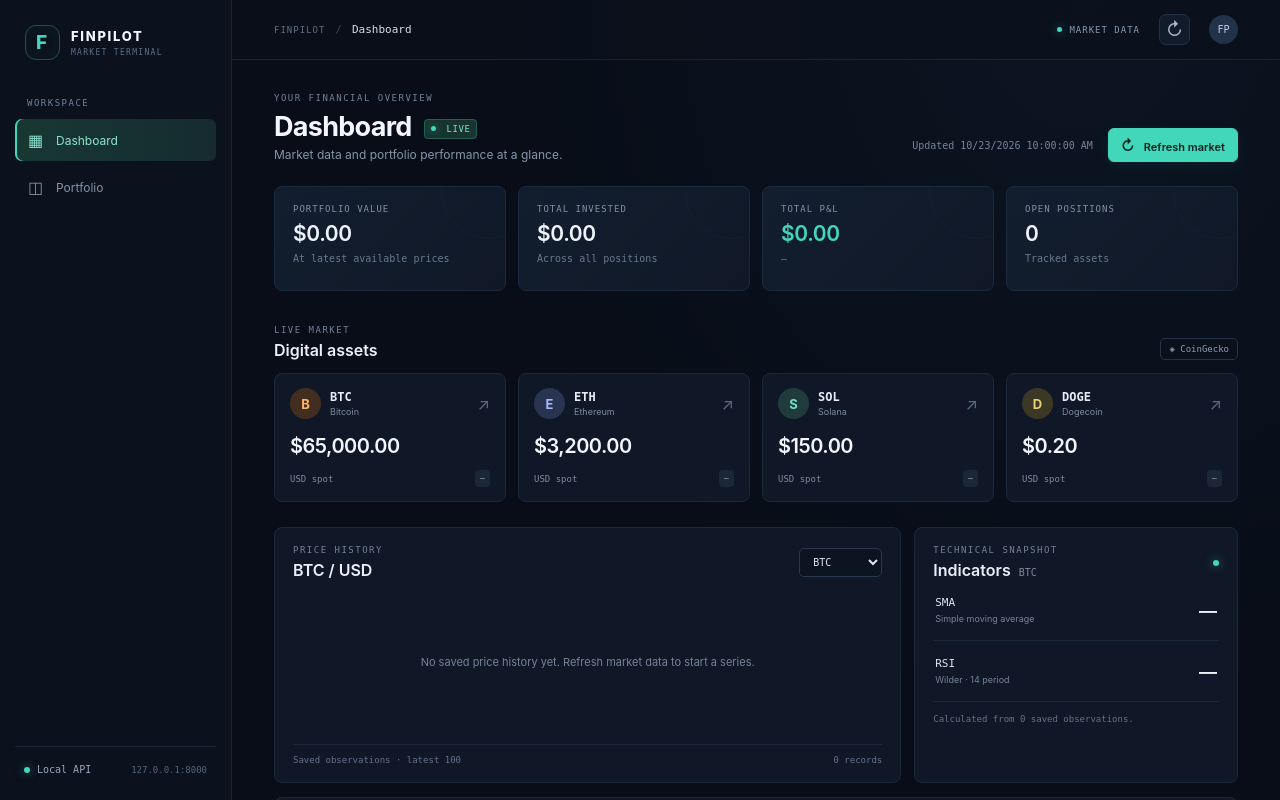
Test case: FinPilot dashboard › validates position form values before submitting
Step 1. Click the button "◫ Portfolio" → (116, 187), box [15, 166, 216, 208]
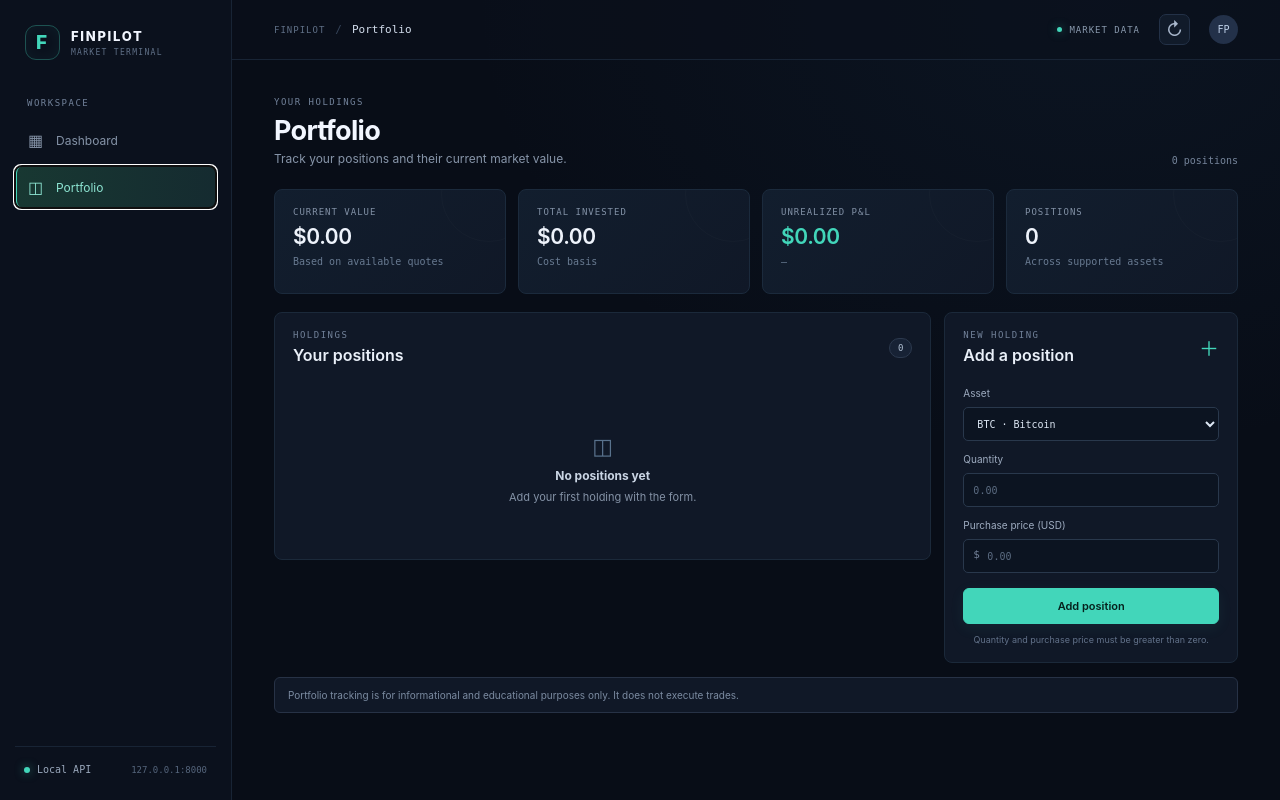
Check: the heading "Add a position" is shown, box [963, 345, 1074, 365]
Step 2. Type "-1" into the number field labelled "Quantity" → (1091, 490), box [963, 473, 1219, 507]
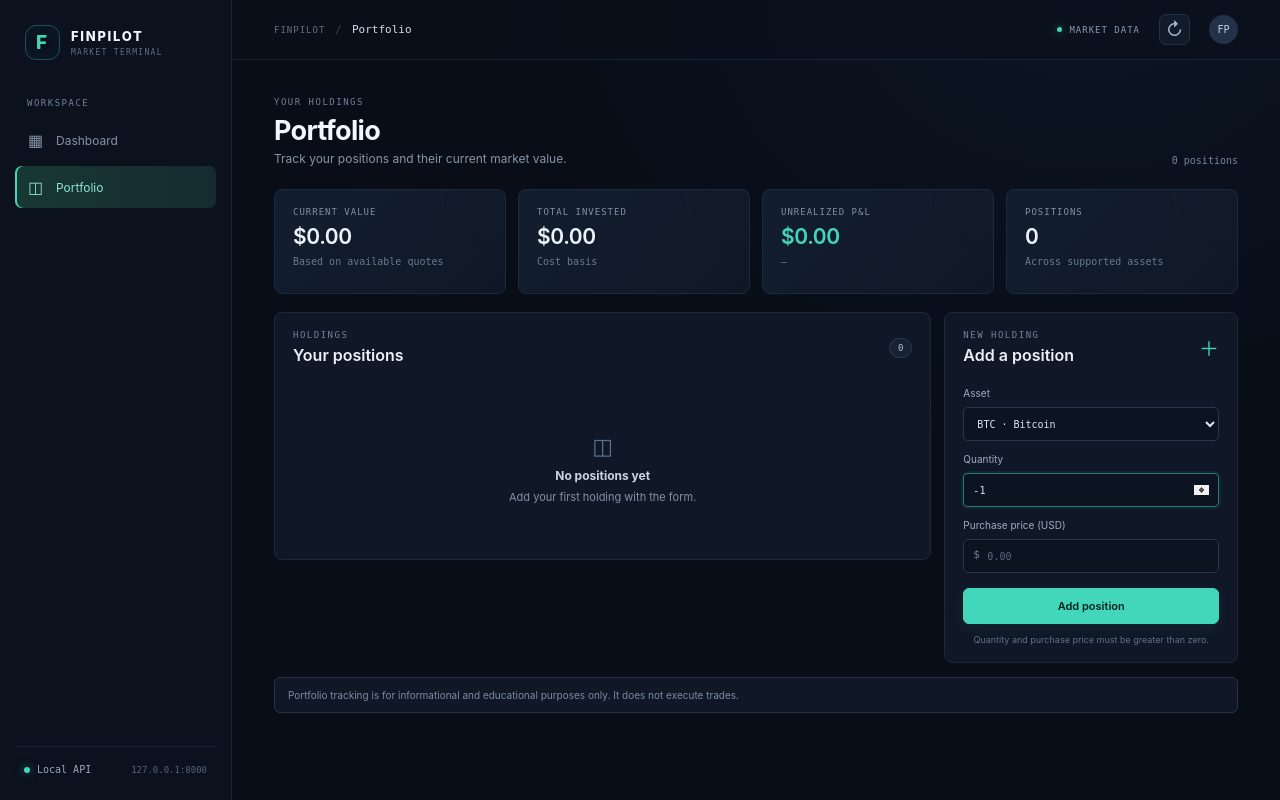
Step 3. Type "0" into the number field labelled "Purchase price (USD)" → (1091, 556), box [963, 539, 1219, 573]
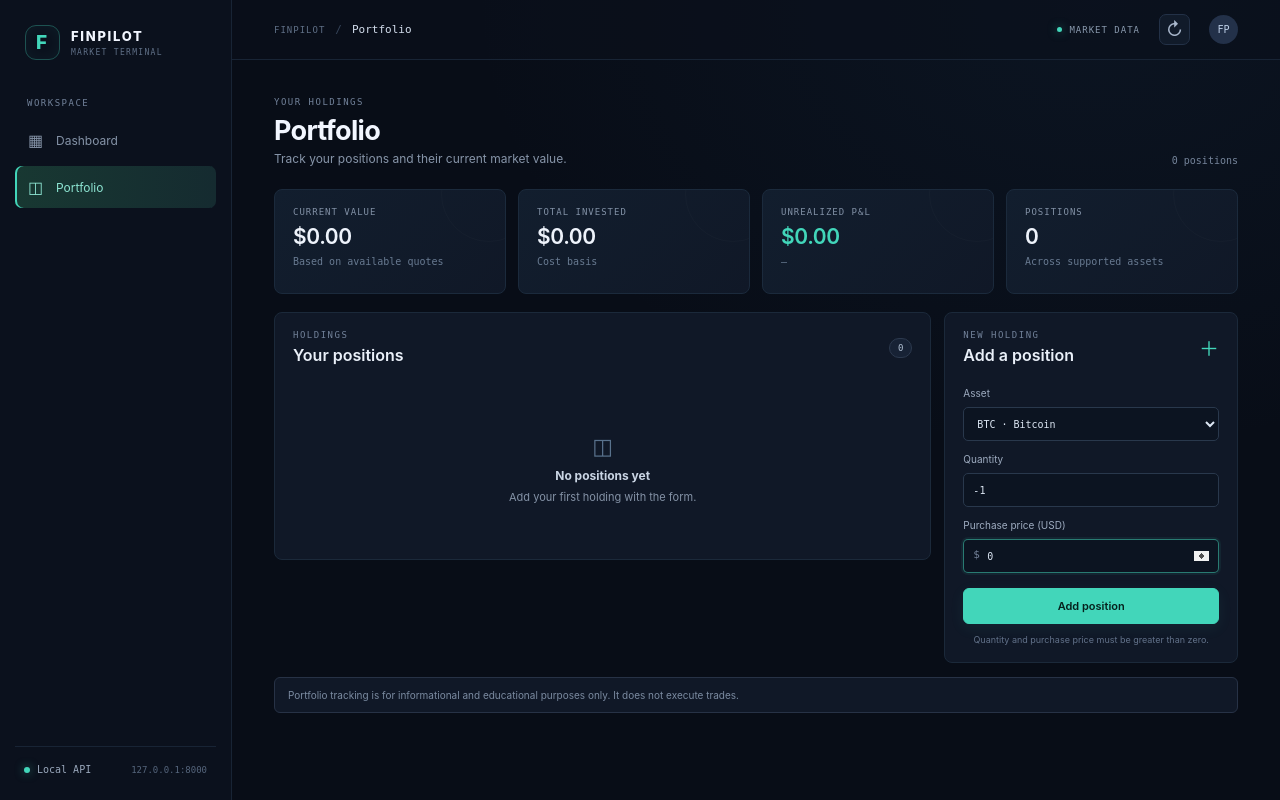
Step 4. Click the button "Add position" → (1091, 606), box [963, 588, 1219, 624]
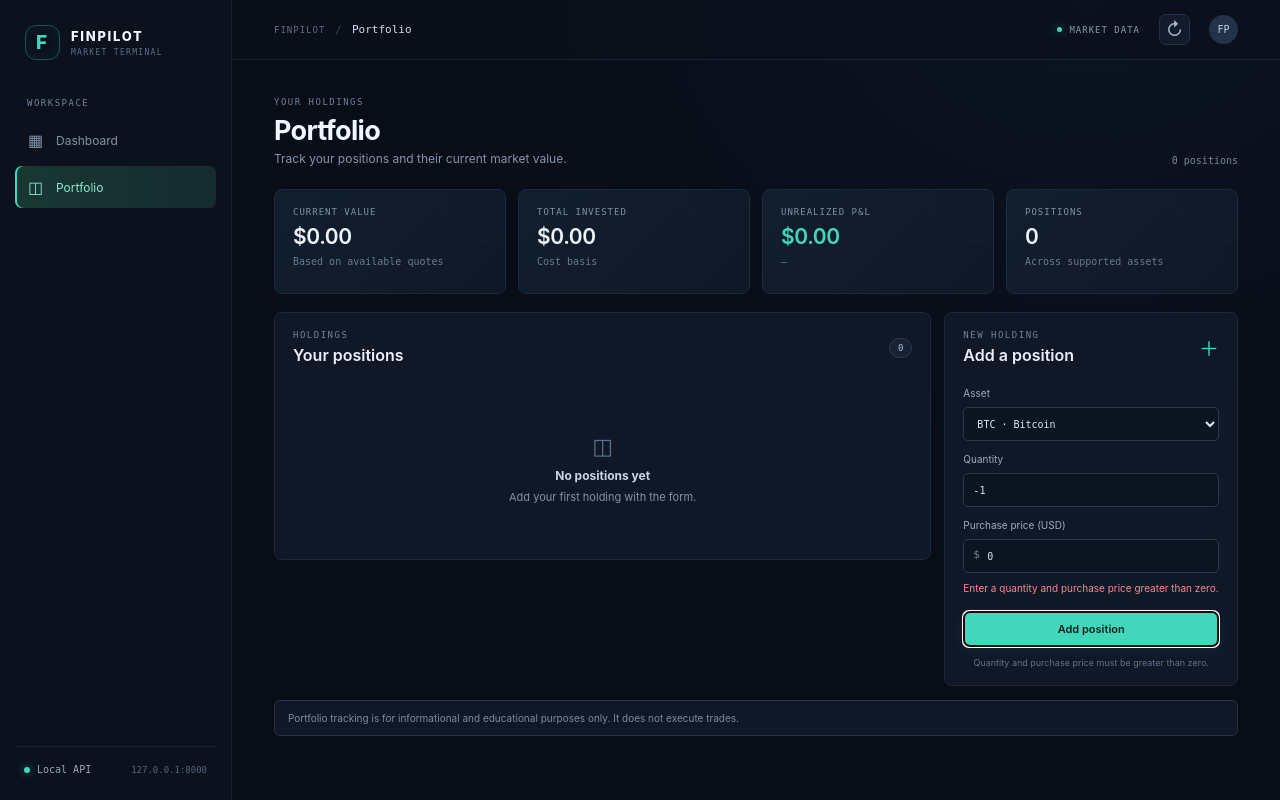
Check: the message shows "greater than zero", box [963, 582, 1219, 594]
